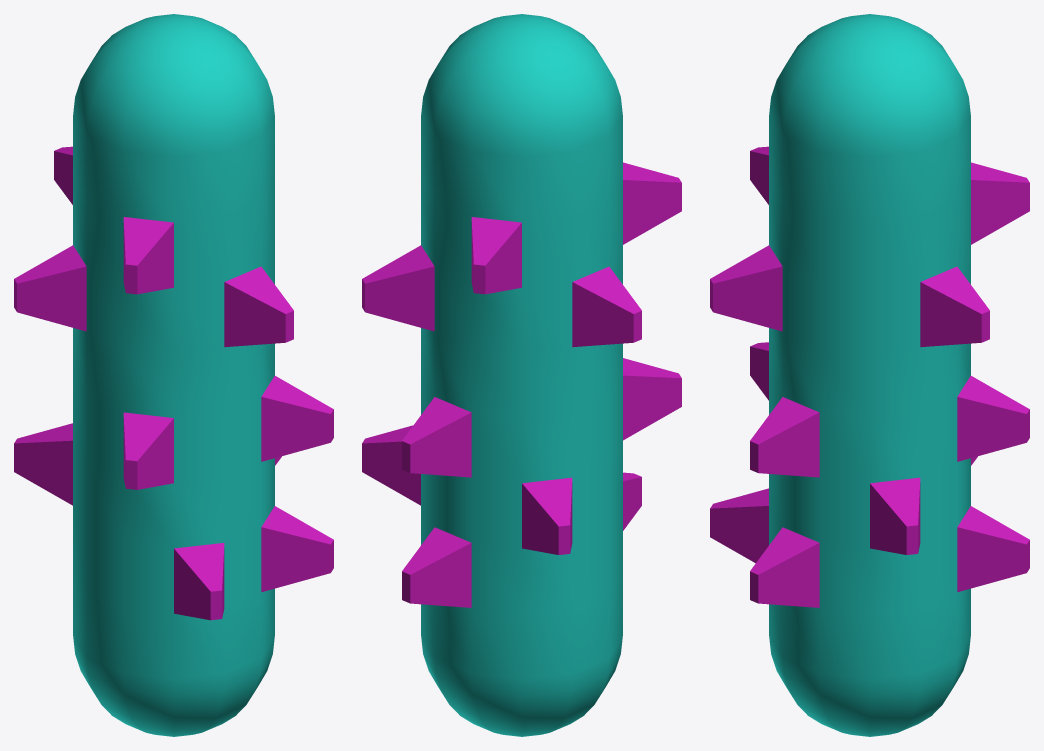
Rendered from kolce.fbx.
The picture shows the model from 3 angles, left to right: view 1: azimuth 30°, elevation 25°; view 2: azimuth 150°, elevation 25°; view 3: azimuth 270°, elevation 25°; orthographic projection.
Parts seen in each view (by area): view 1: kolce; view 2: kolce; view 3: kolce.
Part boxes in pixels (left/top/right/bottom): kolce: left=14, top=14, right=333, bottom=736; kolce: left=362, top=14, right=681, bottom=736; kolce: left=710, top=14, right=1029, bottom=736.
Bounding box in the file's own units: 159 × 385 × 159.
